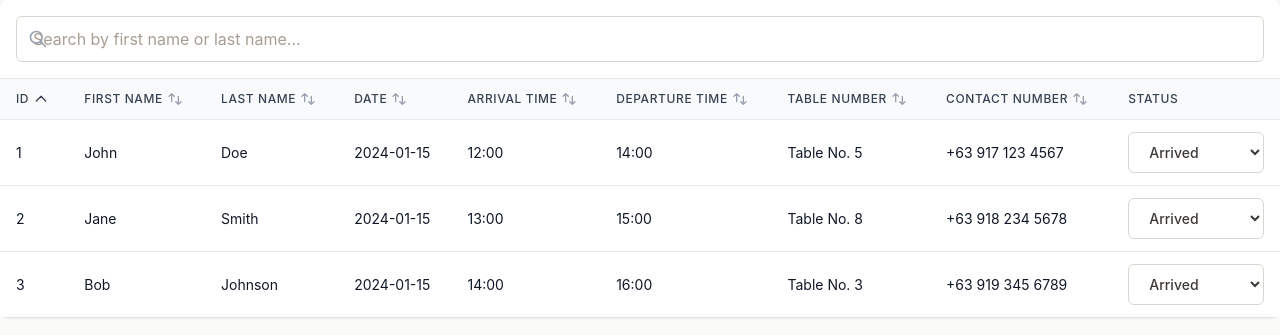
it: OngoingTable › should display message when no reservations match search
The width and height of the screenshot is (1280, 335).
Type "NonExistent" into the field with placeholder "Search by first name or last name..." at coordinates (640, 39), box [16,16,1264,62]
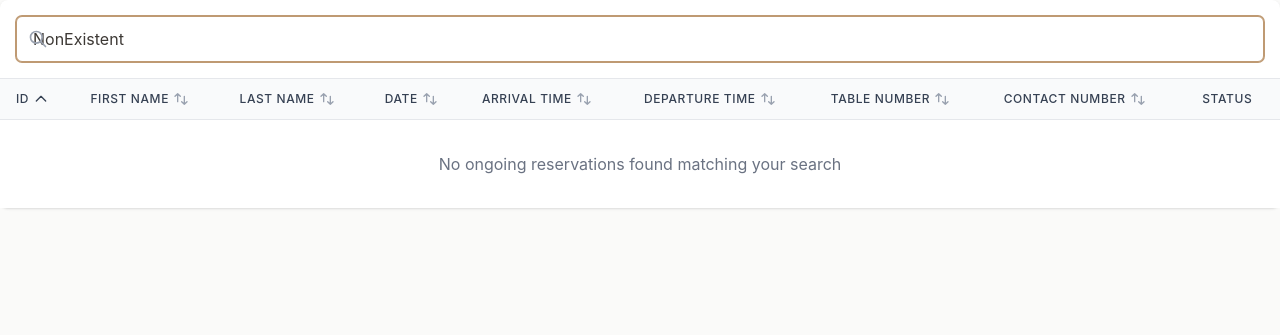
Result: the text "No ongoing reservations found matching your search" is shown at [0,120,1279,208]
